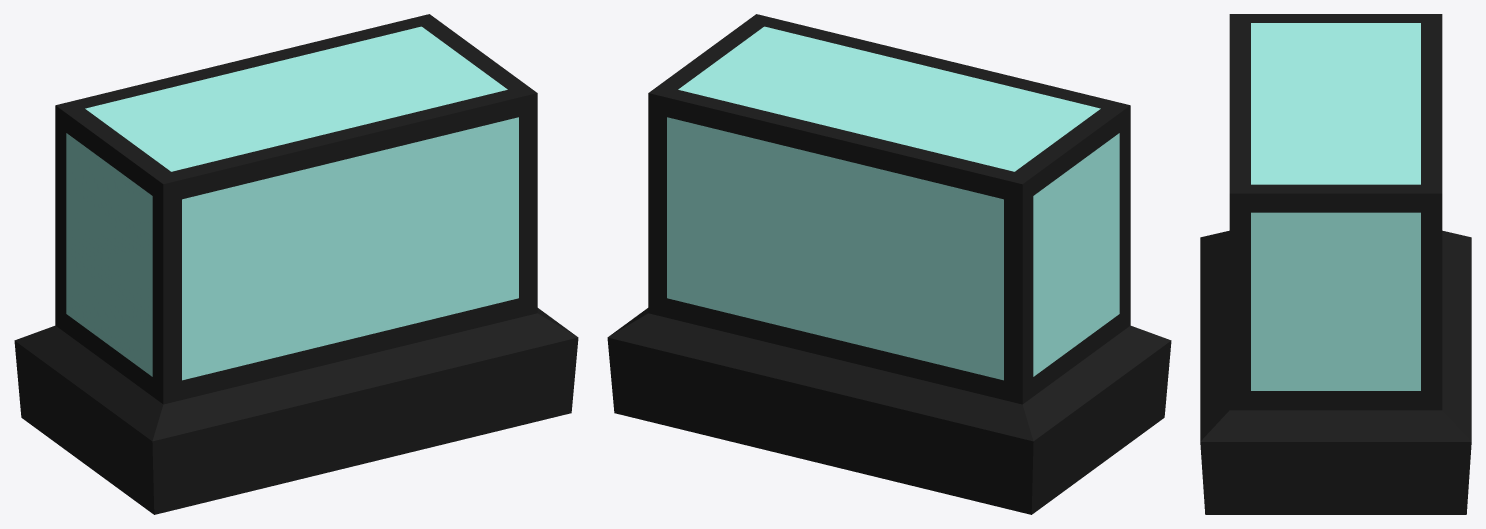
File: Large Display 001.FBX
The picture shows the model from 3 angles, left to right: view 1: azimuth 30°, elevation 25°; view 2: azimuth 150°, elevation 25°; view 3: azimuth 270°, elevation 25°; orthographic projection.
Parts seen in each view (by area): view 1: Large Display; view 2: Large Display; view 3: Large Display.
Boxes of the visible parts, box(x1,y1,x2,y2) form: Large Display: box(14, 14, 578, 514); Large Display: box(607, 14, 1171, 514); Large Display: box(1200, 14, 1471, 514).
Bounding box in the file's own units: 2.28 × 1.62 × 1.28.
